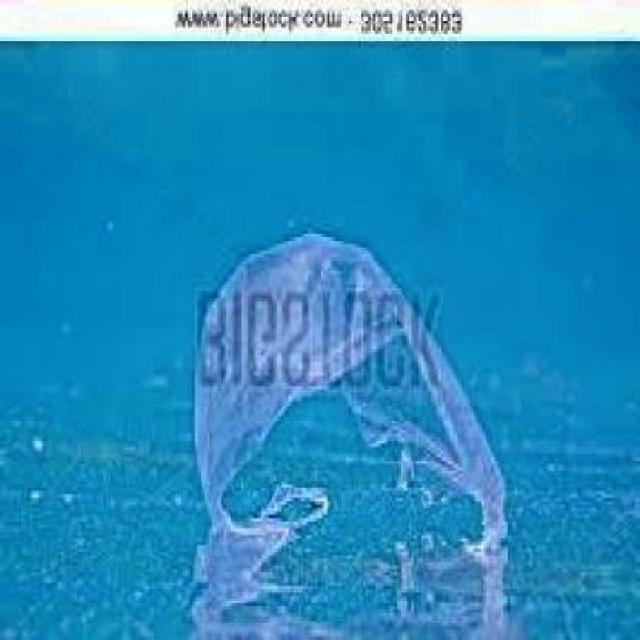pbag: (185, 224, 513, 579)
